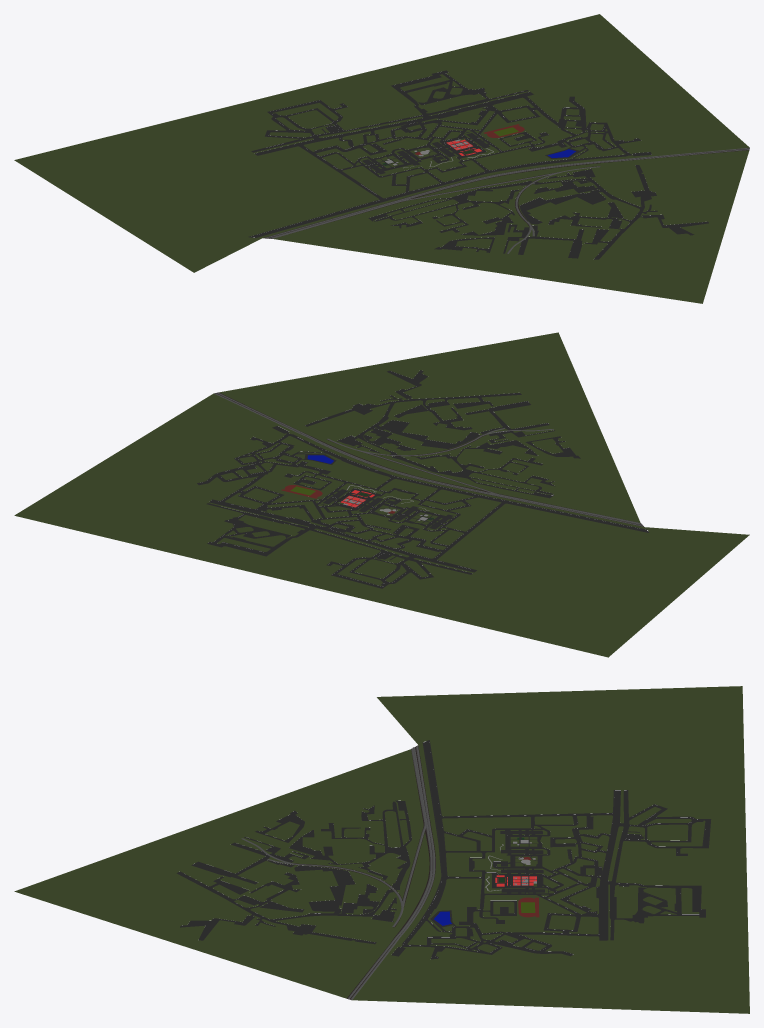
Rendered from ground.FBX.
The picture shows the model from 3 angles, top to bottom: view 1: azimuth 30°, elevation 25°; view 2: azimuth 150°, elevation 25°; view 3: azimuth 270°, elevation 25°; orthographic projection. The views are drawn at different scales.
Parts seen in each view (by area): view 1: ground_07, ground_04, ground_03, ground_05, ground_01, ground_02, ground_06; view 2: ground_07, ground_04, ground_03, ground_05, ground_01, ground_02, ground_06; view 3: ground_07, ground_04, ground_03, ground_05, ground_01, ground_02, ground_06.
Boxes of the visible parts, x1=… form: ground_07: x1=263, y1=147, x2=749, y2=303; ground_04: x1=14, y1=108, x2=359, y2=272; ground_03: x1=408, y1=14, x2=749, y2=165; ground_05: x1=221, y1=62, x2=462, y2=147; ground_01: x1=274, y1=122, x2=449, y2=197; ground_02: x1=382, y1=102, x2=530, y2=171; ground_06: x1=343, y1=152, x2=549, y2=210; ground_07: x1=214, y1=332, x2=643, y2=526; ground_04: x1=399, y1=505, x2=749, y2=657; ground_03: x1=14, y1=393, x2=351, y2=561; ground_05: x1=209, y1=522, x2=452, y2=607; ground_01: x1=345, y1=491, x2=520, y2=567; ground_02: x1=264, y1=471, x2=413, y2=541; ground_06: x1=332, y1=457, x2=538, y2=517; ground_07: x1=14, y1=745, x2=435, y2=1000; ground_04: x1=377, y1=686, x2=745, y2=801; ground_03: x1=352, y1=906, x2=749, y2=1013; ground_05: x1=622, y1=801, x2=747, y2=906; ground_01: x1=466, y1=801, x2=622, y2=861; ground_02: x1=466, y1=861, x2=622, y2=906; ground_06: x1=423, y1=801, x2=466, y2=906.
Size of the model in its own units: 46.08 by 0.0173 by 43.73.
